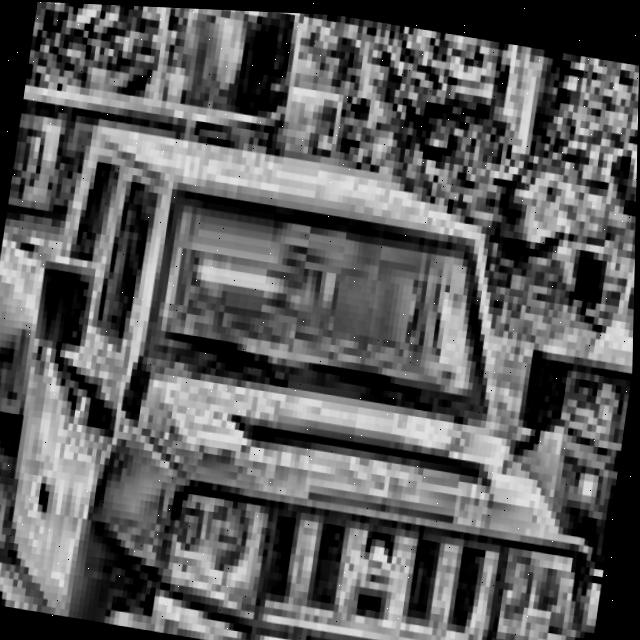excavator: (9, 0, 386, 251), (452, 34, 640, 296)
light_vehicle: (0, 83, 639, 640), (0, 48, 288, 640), (499, 97, 639, 640)
